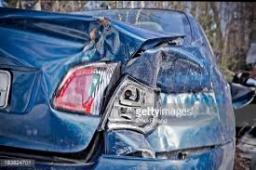Dickey: (1, 9, 186, 163)
Fender: (105, 33, 235, 161)
Light: (108, 80, 153, 127)
